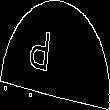P_S: (42, 27, 68, 83)
